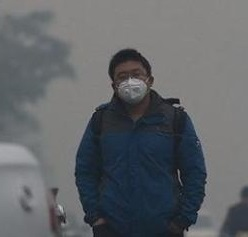person: (74, 45, 213, 237), (218, 184, 248, 237)
